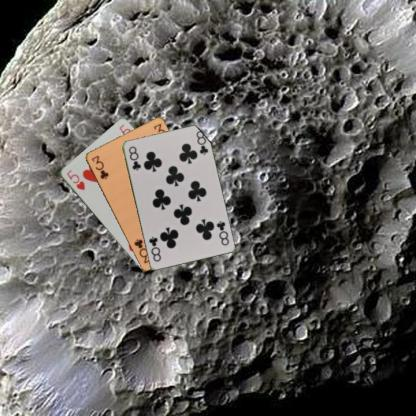3c: (89, 153, 110, 180)
5h: (64, 167, 86, 191)
8c: (126, 143, 142, 172), (214, 218, 230, 247)
